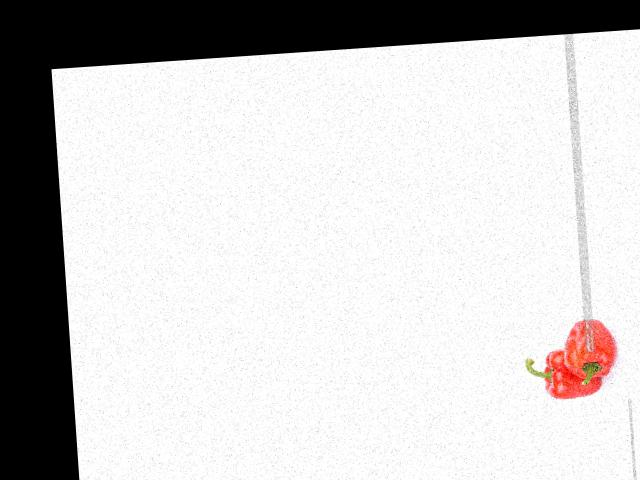bell_pepper: (556, 310, 617, 384)
